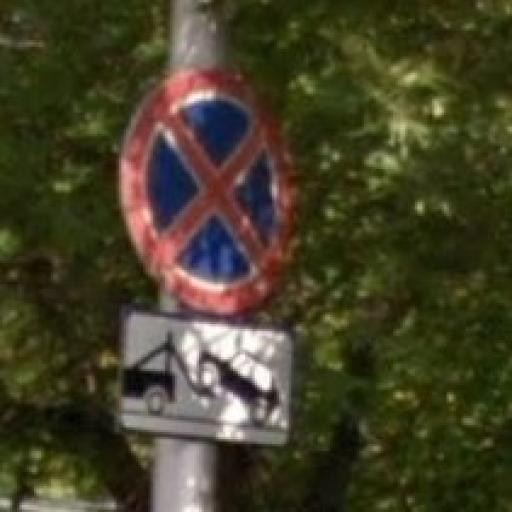traffic_sign: (117, 67, 302, 318)
